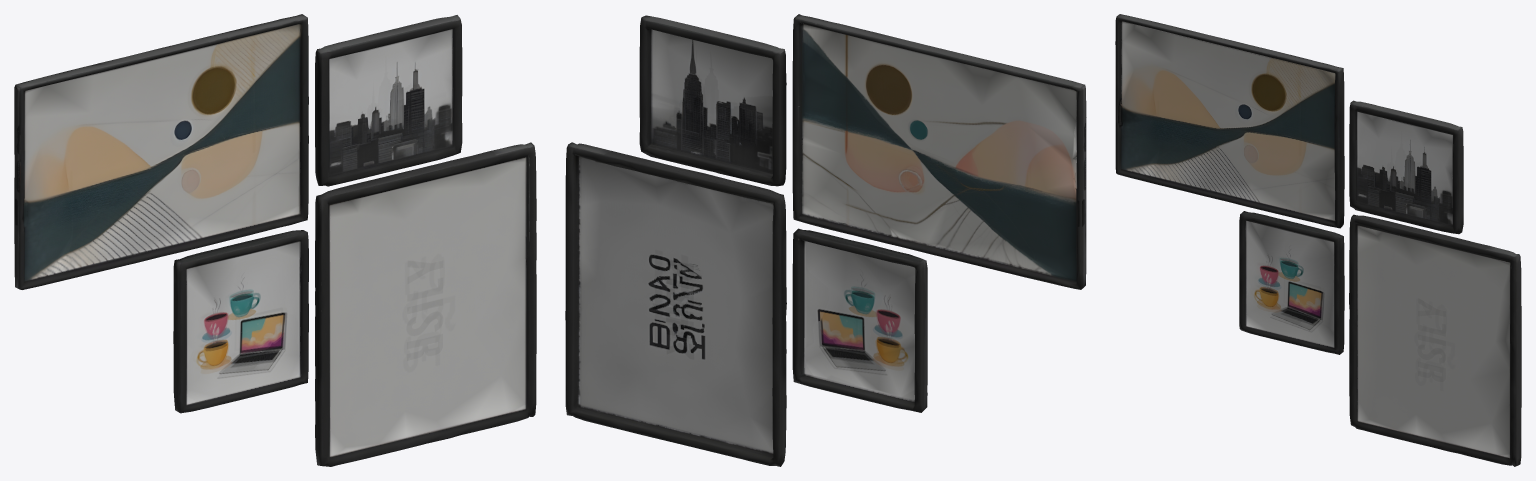
File: tablo.fbx
The picture shows the model from 3 angles, left to right: view 1: azimuth 30°, elevation 25°; view 2: azimuth 150°, elevation 25°; view 3: azimuth 330°, elevation 25°; orthographic projection. The views are drawn at different scales.
Visible parts, largest first — view 1: Mesh_0; view 2: Mesh_0; view 3: Mesh_0.
Part boxes in pixels (x1,y1,x2,y2): Mesh_0: [14, 14, 536, 466]; Mesh_0: [565, 14, 1086, 466]; Mesh_0: [1115, 14, 1521, 466].
Bounding box in the file's own units: 191 × 161 × 4.5.
1 material, 1 textured.
